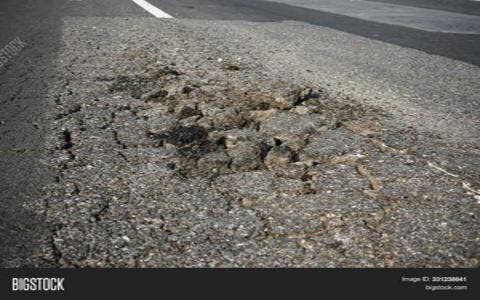patchy roads: (44, 17, 341, 204)
